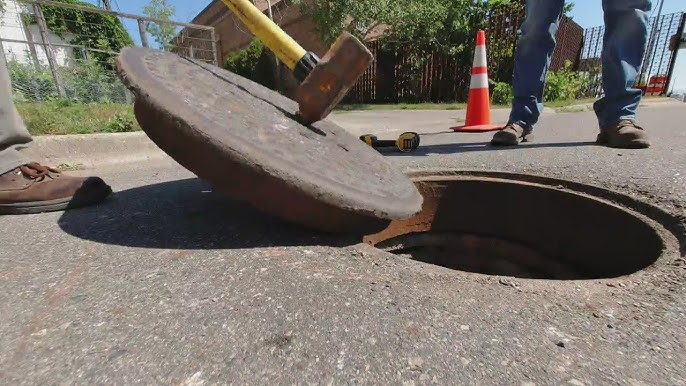open_manhole: (378, 146, 674, 294)
